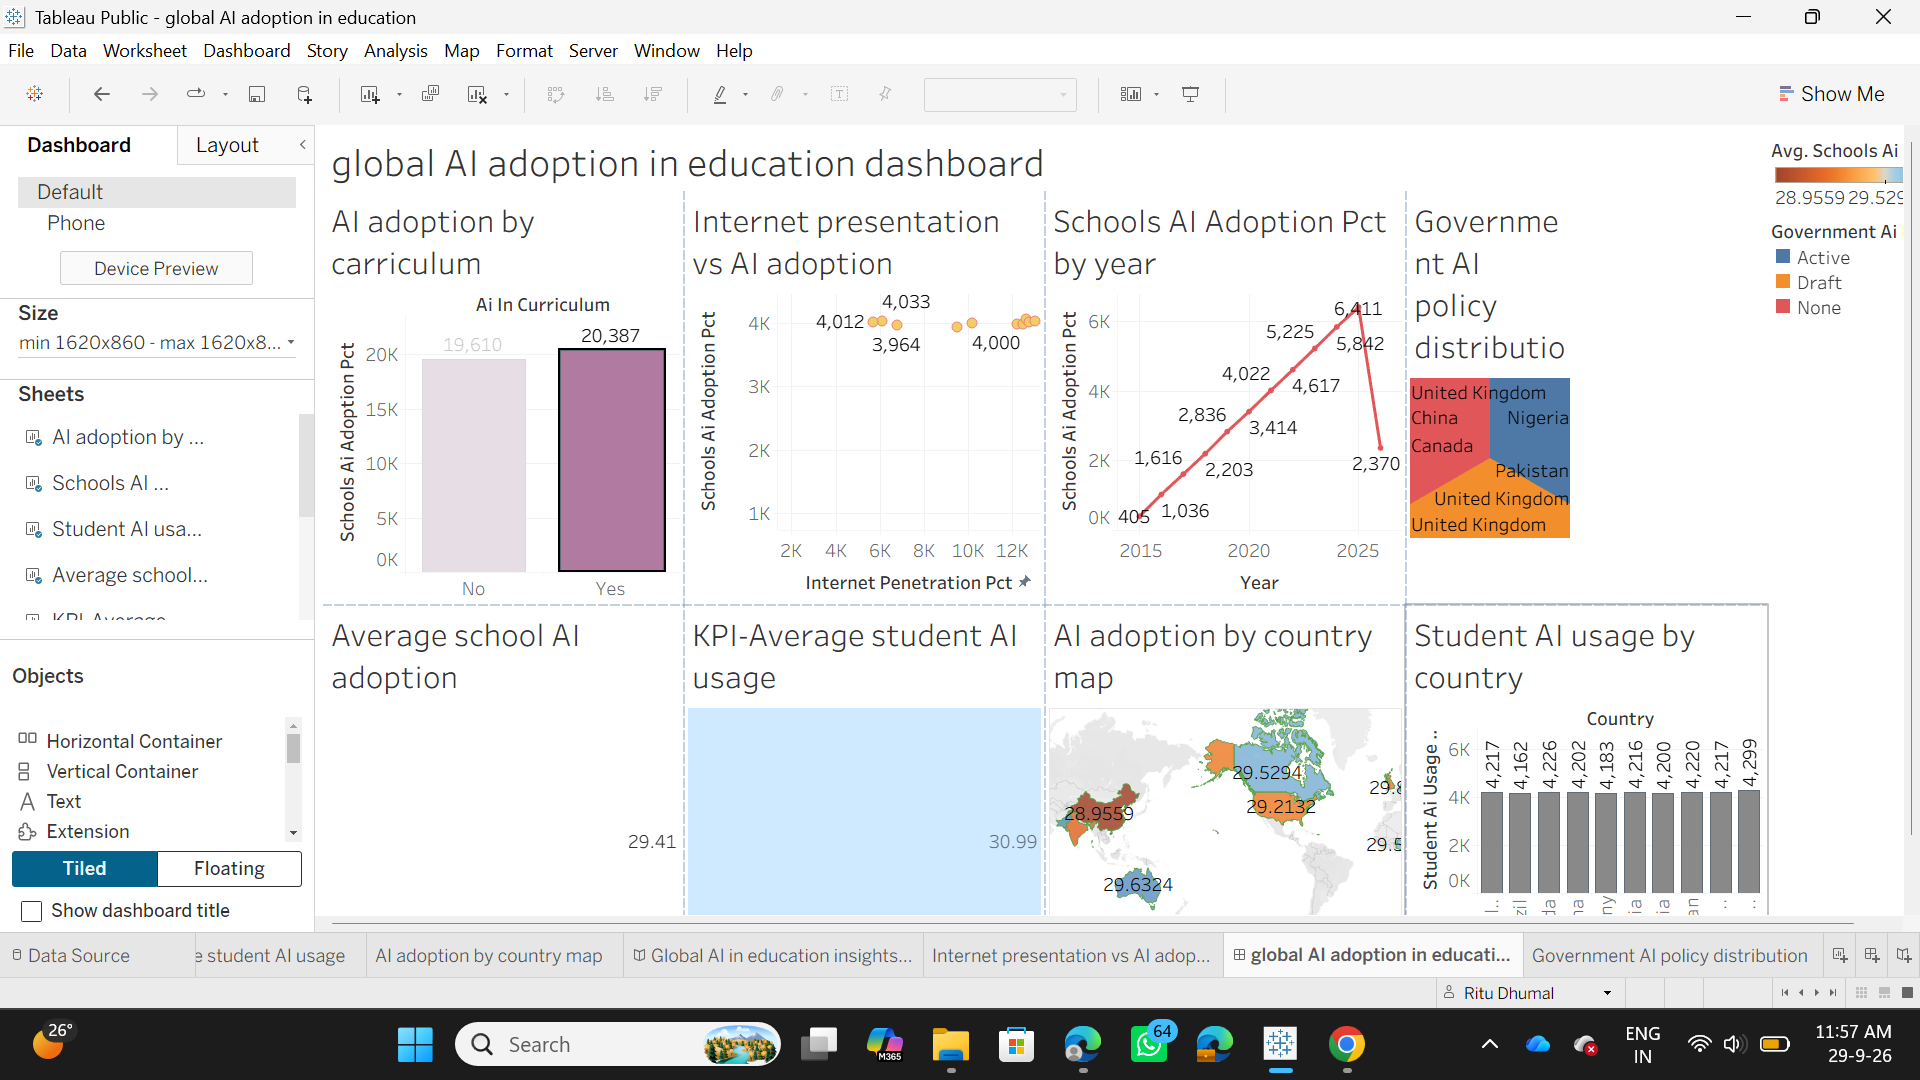

The page's visual inventory and layout, read from the dashboard file:
{"tool":"tableau","page":{"name":"global AI adoption in education dashboard","canvas":[1620,860],"ordinal":0},"visuals":[{"type":"title","box":[8,8,1444,58]},{"type":"legend","title":"AI adoption by country map","param":"[federated.0kcm0891dzdvng1di9hso165ty9s].[avg:schools_ai_adoption_pct:qk]","box":[1452,8,160,81]},{"type":"worksheet","title":"AI adoption by carriculum","mark":"Automatic","rows":["schools_ai_adoption_pct"],"cols":["ai_in_curriculum"],"box":[8,66,361,414]},{"type":"worksheet","title":"Internet presentation vs AI adoption ","mark":"Circle","rows":["schools_ai_adoption_pct"],"cols":["internet_penetration_pct"],"box":[369,66,361,414]},{"type":"worksheet","title":"Schools AI Adoption Pct by year","mark":"Automatic","rows":["schools_ai_adoption_pct"],"cols":["year"],"box":[730,66,361,414]},{"type":"worksheet","title":"Government AI policy distribution","mark":"Pie","box":[1091,66,361,414]},{"type":"legend","title":"Government AI policy distribution","param":"[federated.0kcm0891dzdvng1di9hso165ty9s].[none:government_ai_policy:nk]","box":[1452,89,160,109]},{"type":"worksheet","title":"Average school AI adoption","mark":"Automatic","box":[8,480,361,372]},{"type":"worksheet","title":"KPI-Average student AI usage","mark":"Automatic","box":[369,480,361,372]},{"type":"worksheet","title":"AI adoption by country map","mark":"Multipolygon","box":[730,480,361,372]},{"type":"worksheet","title":"Student AI usage by country","mark":"Automatic","rows":["student_ai_usage_pct"],"cols":["country"],"box":[1091,480,361,372]}]}

Visuals, with their boxes on the page's 1620x860 design canvas (x1, y1, x2, y2). These are canvas units, not pixel positions in the 1920x1080 screenshot, which may show the page scaled, cropped or inside an application window:
title: {"x1": 8, "y1": 8, "x2": 1452, "y2": 66}
"AI adoption by country map" legend: {"x1": 1452, "y1": 8, "x2": 1612, "y2": 89}
"AI adoption by carriculum" worksheet: {"x1": 8, "y1": 66, "x2": 369, "y2": 480}
"Internet presentation vs AI adoption " worksheet (Circle marks): {"x1": 369, "y1": 66, "x2": 730, "y2": 480}
"Schools AI Adoption Pct by year" worksheet: {"x1": 730, "y1": 66, "x2": 1091, "y2": 480}
"Government AI policy distribution" worksheet (Pie marks): {"x1": 1091, "y1": 66, "x2": 1452, "y2": 480}
"Government AI policy distribution" legend: {"x1": 1452, "y1": 89, "x2": 1612, "y2": 198}
"Average school AI adoption" worksheet: {"x1": 8, "y1": 480, "x2": 369, "y2": 852}
"KPI-Average student AI usage" worksheet: {"x1": 369, "y1": 480, "x2": 730, "y2": 852}
"AI adoption by country map" worksheet (Multipolygon marks): {"x1": 730, "y1": 480, "x2": 1091, "y2": 852}
"Student AI usage by country" worksheet: {"x1": 1091, "y1": 480, "x2": 1452, "y2": 852}
